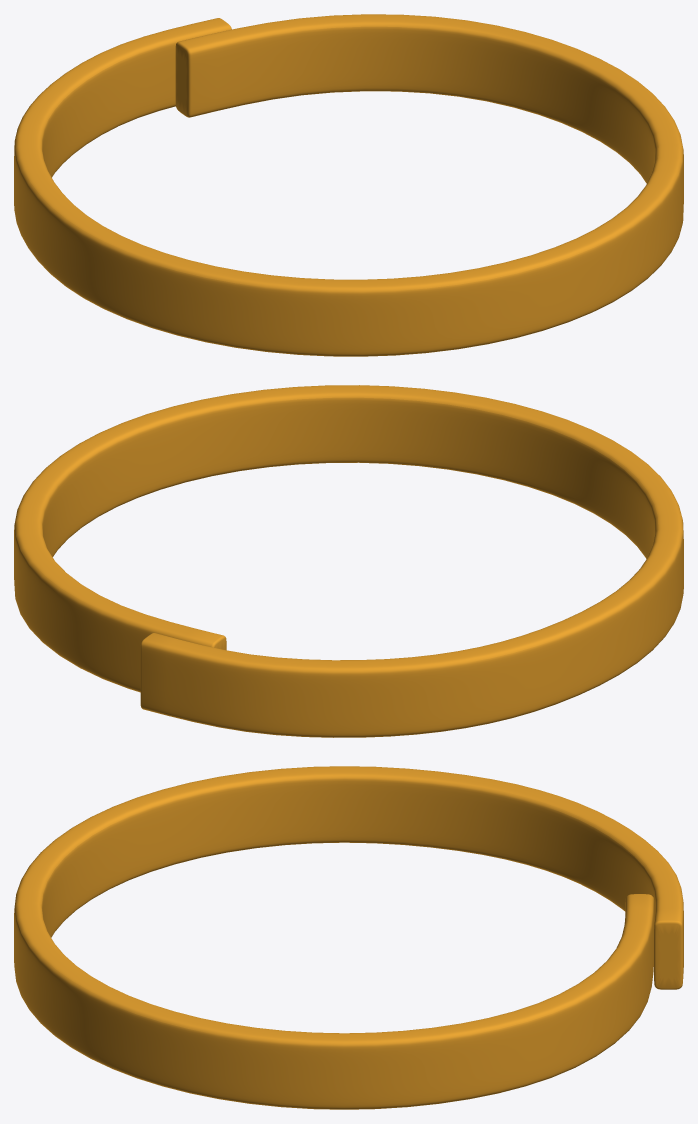
3 views of the same model, one above another, from view 1: azimuth 30°, elevation 25°; view 2: azimuth 150°, elevation 25°; view 3: azimuth 270°, elevation 25° (orthographic).
Visible parts, largest first — view 1: ring_0; view 2: ring_0; view 3: ring_0.
Part boxes in pixels (left/top/right/bottom): ring_0: left=14, top=14, right=683, bottom=356; ring_0: left=14, top=385, right=683, bottom=737; ring_0: left=14, top=766, right=683, bottom=1109.
Size of the model in its own units: 3.25 by 0.3758 by 3.29.
